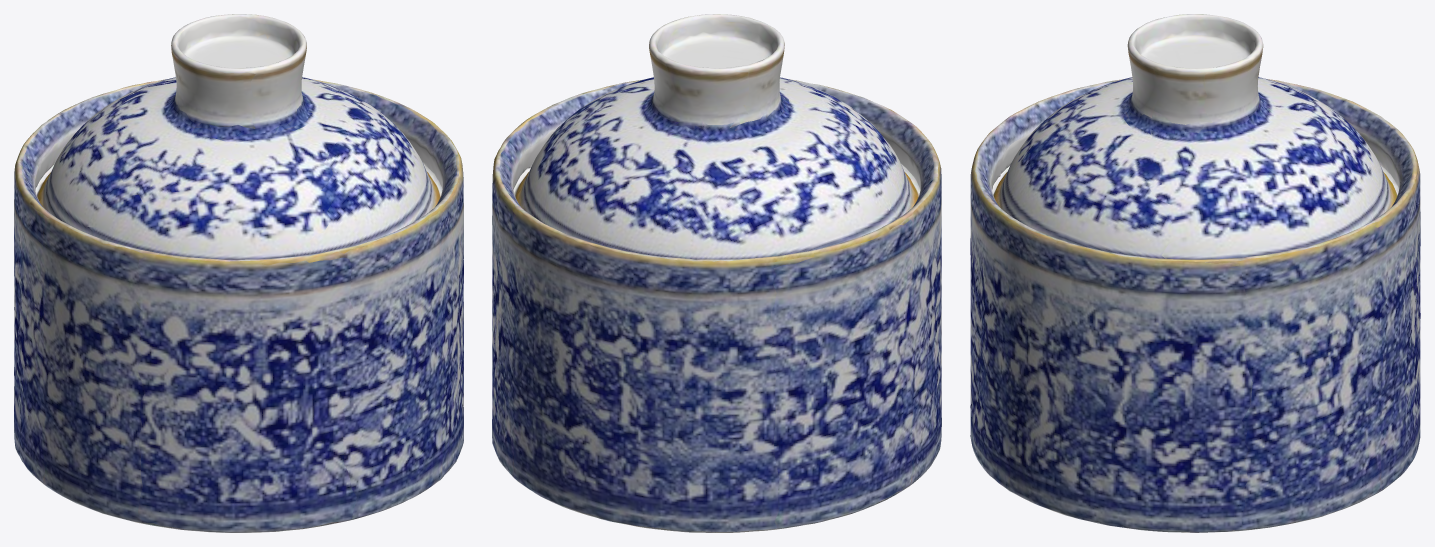
File: porcelain_2.glb
3 views of the same model, side by side, from view 1: azimuth 30°, elevation 25°; view 2: azimuth 150°, elevation 25°; view 3: azimuth 270°, elevation 25° (orthographic).
Visible parts, largest first — view 1: geometry_0; view 2: geometry_0; view 3: geometry_0.
Boxes of the visible parts, x1,y1,x2,y2 form: geometry_0: (14,14,463,532); geometry_0: (492,14,941,532); geometry_0: (970,14,1420,532).
Size of the model in its own units: 1 by 0.9788 by 1.
1 material, 1 textured.
